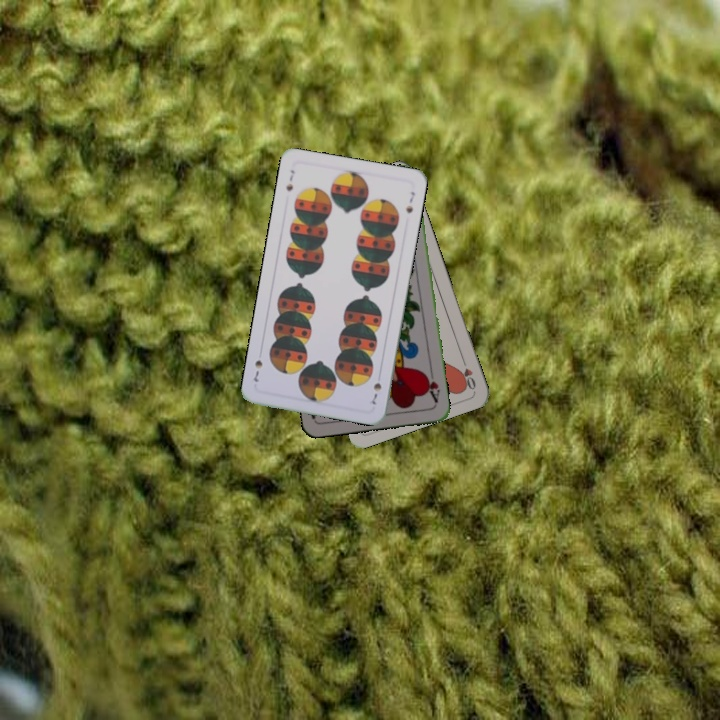HA: (421, 366, 442, 405)
HO: (457, 354, 478, 393)
S7: (368, 378, 384, 407), (282, 166, 297, 194)
